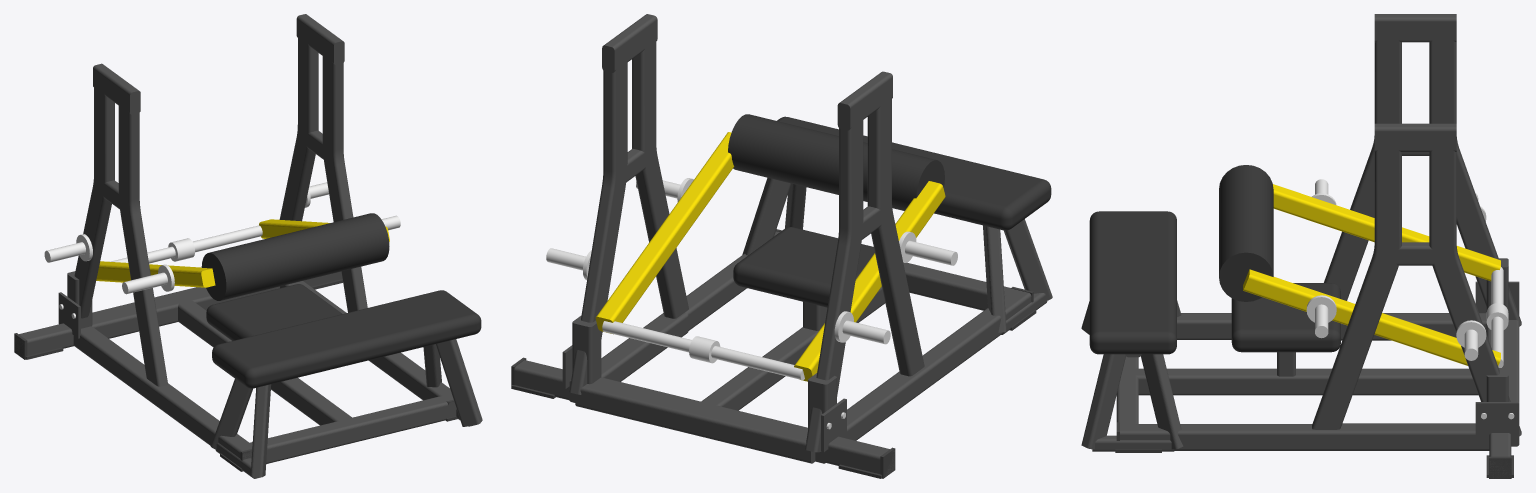
3 renders of one model, left to right at view 1: azimuth 30°, elevation 25°; view 2: azimuth 150°, elevation 25°; view 3: azimuth 270°, elevation 25°, orthographic. The views are drawn at different scales.
Visible parts, largest first — view 1: side_leg_tube (×4), base, bench_pad, lever_roller, bench_leg (×4), seat_pad, side_cap (×2), lever_bar (×2), lever_support, frame, lever_axle, lever_horn (+2 smaller); view 2: side_leg_tube (×4), base, lever_bar (×2), lever_roller, bench_pad, side_link, seat_pad, bench_leg (×4), frame, lever_support, side_cap (×2), lever_axle (+5 smaller); view 3: side_leg_tube (×4), base, bench_pad, lever_bar (×2), lever_roller, seat_pad, bench_leg (×2), side_cap (×2), frame, gusset (×2), lever_support, side_link (+6 smaller).
Part boxes in pixels (x1,y1,x2,y2): side_leg_tube (×4): (74, 28, 367, 386); base: (14, 271, 456, 463); bench_pad: (212, 290, 481, 388); lever_roller: (201, 213, 389, 300); bench_leg (×4): (210, 339, 482, 477); seat_pad: (206, 284, 342, 340); side_cap (×2): (93, 14, 344, 114); lever_bar (×2): (96, 219, 389, 287); lever_support: (67, 271, 279, 338); frame: (81, 130, 324, 383); lever_axle: (110, 225, 262, 263); lever_horn: (122, 264, 174, 294); side_leg_tube (×4): (569, 31, 924, 452); base: (514, 231, 1031, 476); lever_bar (×2): (595, 132, 945, 381); lever_roller: (728, 114, 944, 210); bench_pad: (777, 116, 1051, 230); side_link: (575, 383, 815, 463); seat_pad: (733, 227, 874, 307); bench_leg (×4): (742, 177, 1052, 332); frame: (601, 148, 920, 423); lever_support: (572, 316, 836, 431); side_cap (×2): (602, 14, 892, 130); lever_axle: (602, 321, 804, 380); side_leg_tube (×4): (1312, 31, 1521, 438); base: (1116, 313, 1511, 478); bench_pad: (1089, 211, 1176, 354); lever_bar (×2): (1243, 184, 1500, 365); lever_roller: (1219, 165, 1273, 301); seat_pad: (1231, 283, 1340, 352); bench_leg (×2): (1081, 354, 1183, 449); side_cap (×2): (1374, 14, 1456, 151); frame: (1323, 152, 1486, 430); gusset (×2): (1475, 281, 1519, 437); lever_support: (1486, 258, 1508, 401); side_link: (1505, 320, 1519, 446).
Size of the model in its own units: 1.5 by 1.3 by 1.61.
